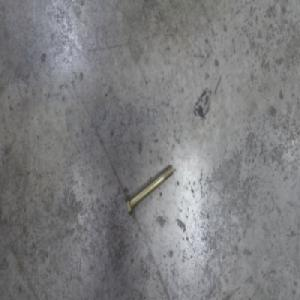Bolt: (124, 162, 174, 219)
